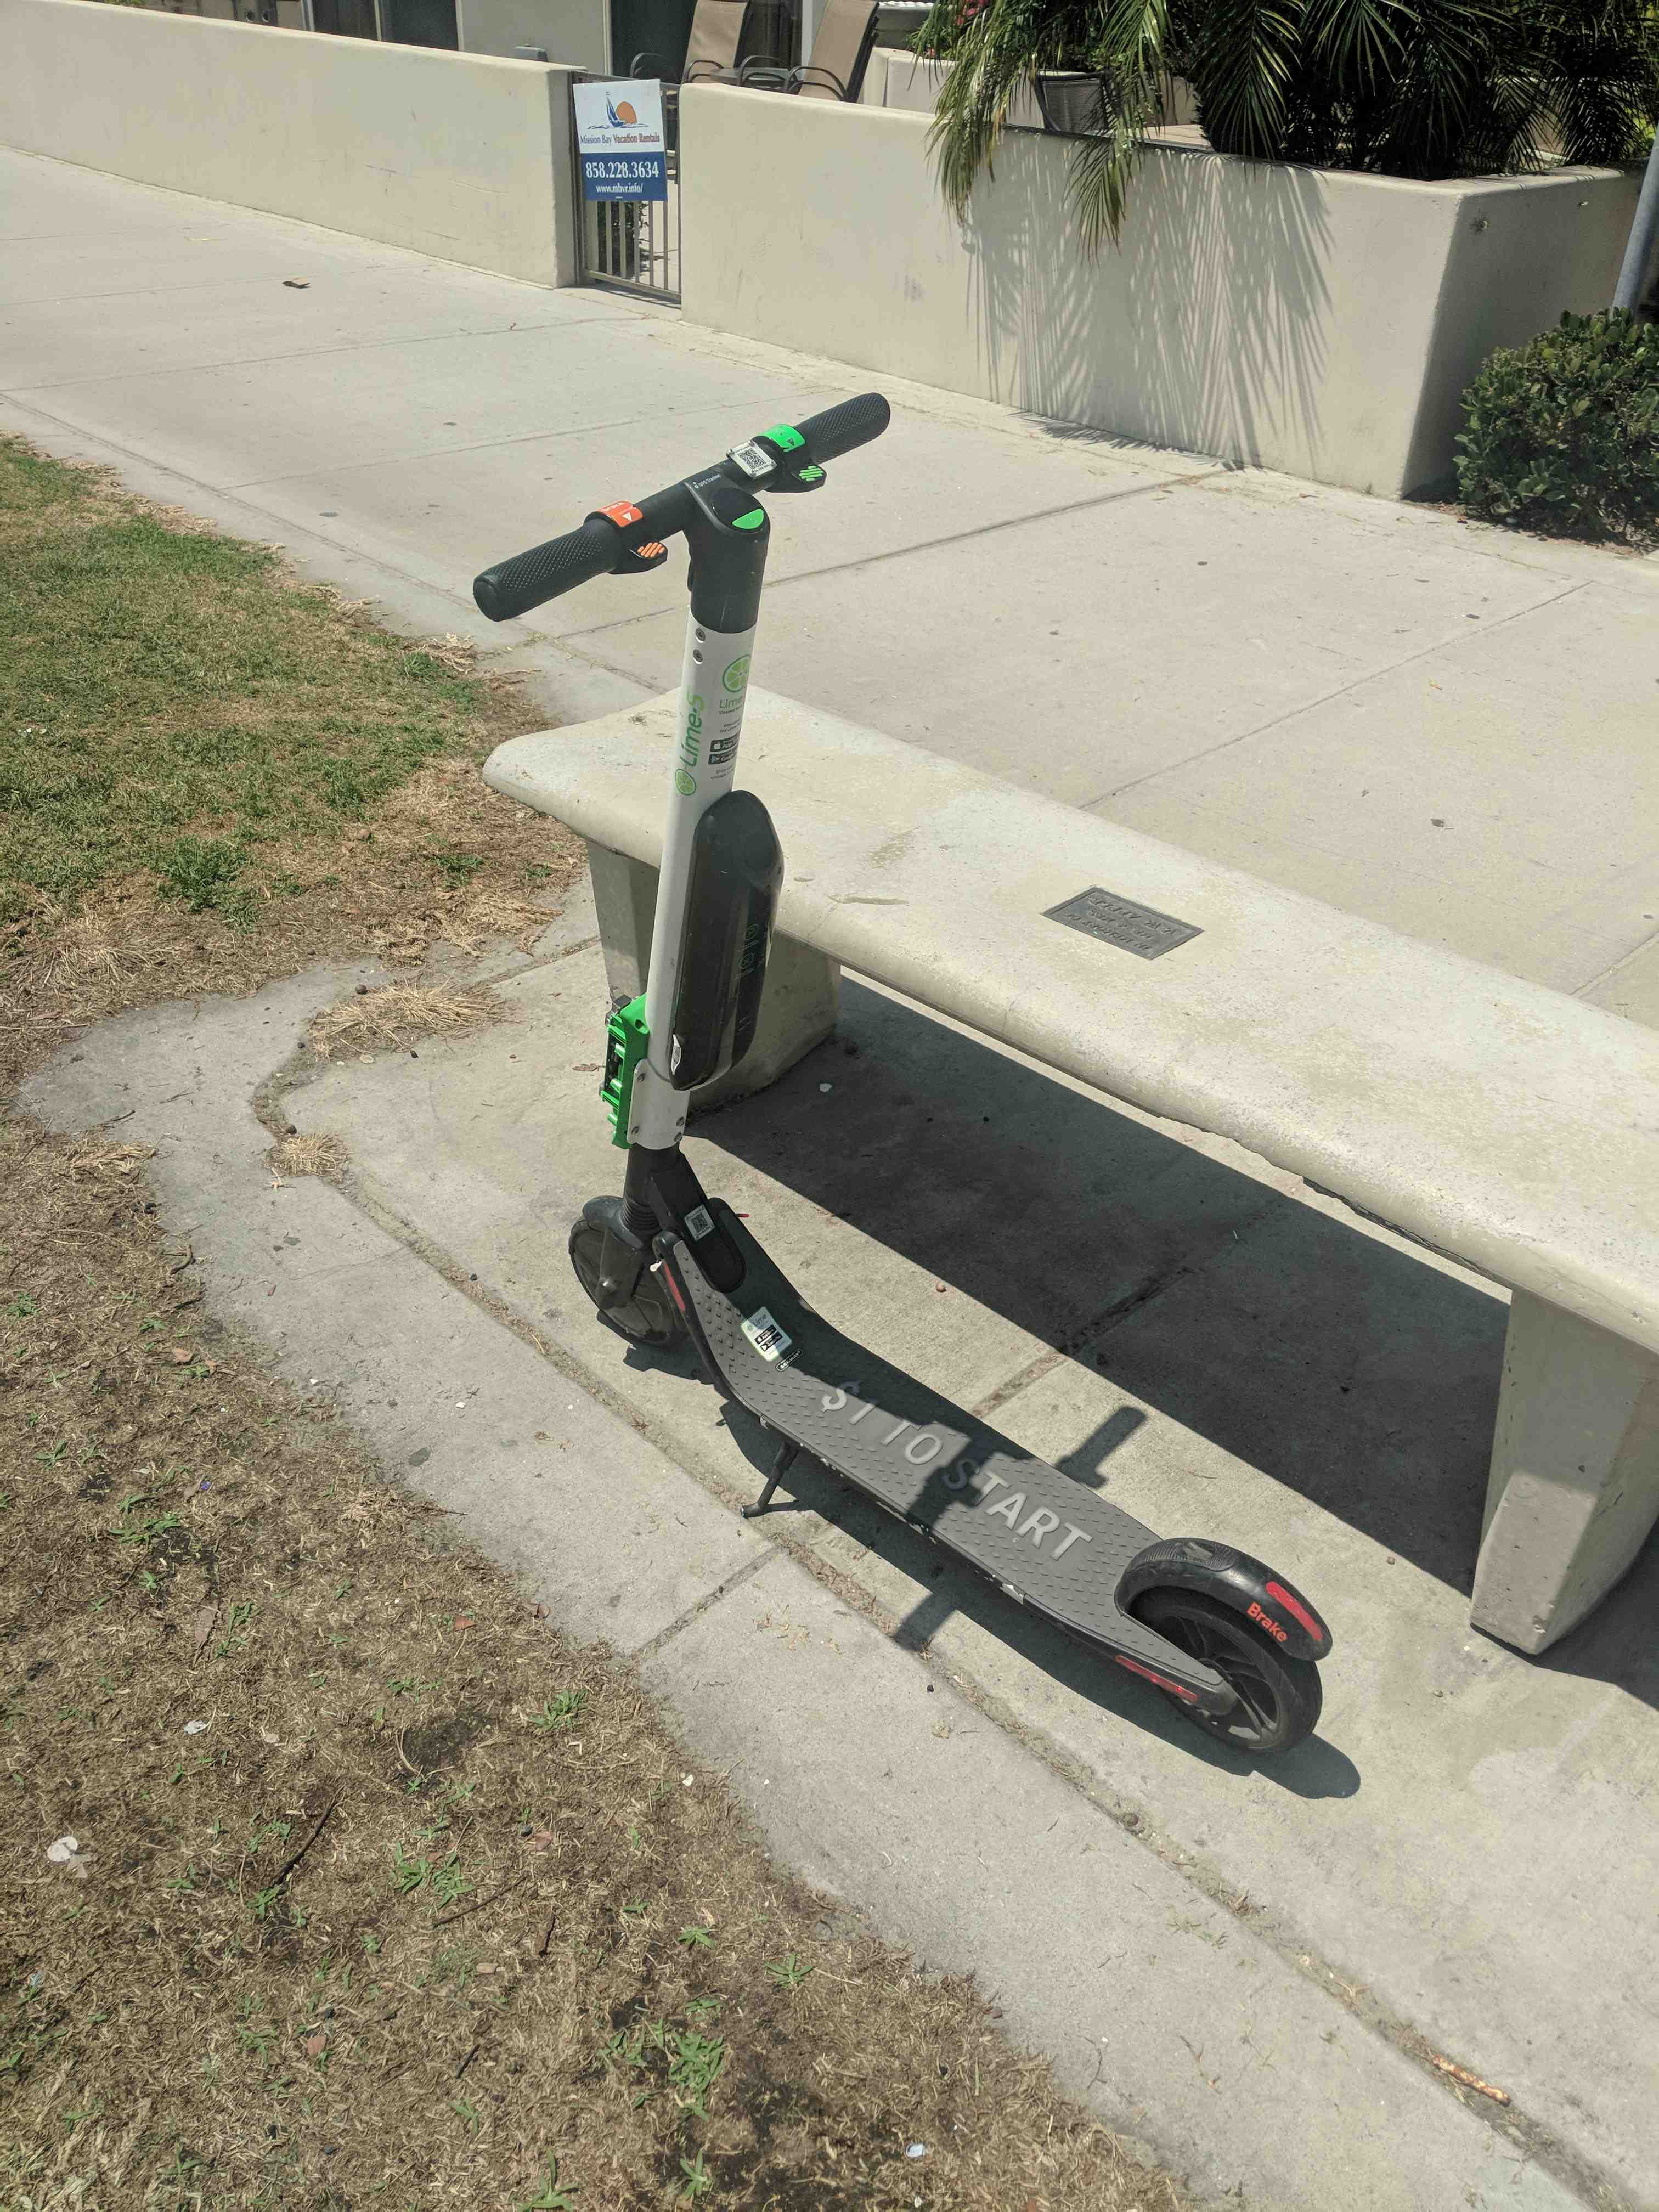scooter: (458, 340, 1366, 1782)
